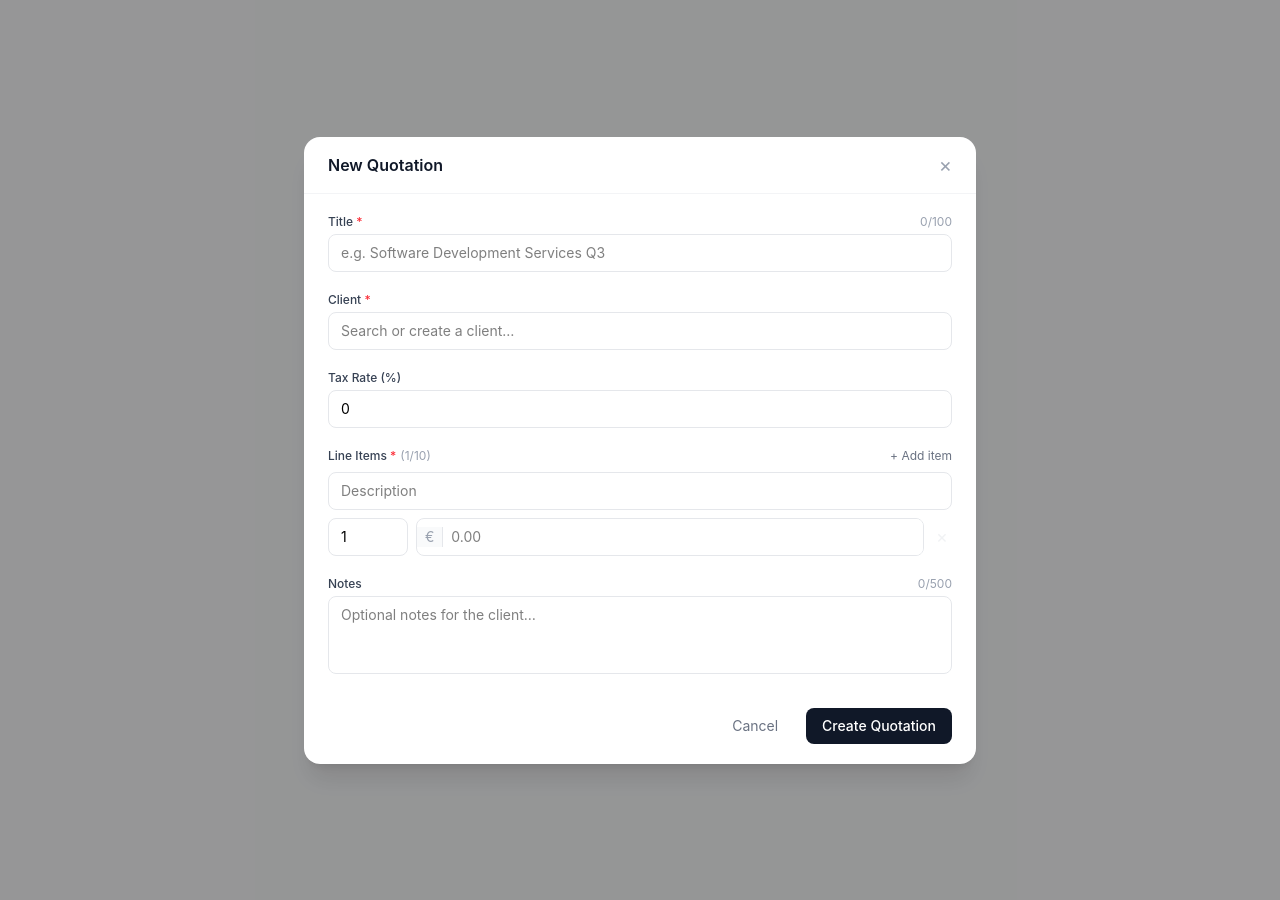
Test: CreateQuotationModal › can add and remove line items
This screenshot has width=1280, height=900.
What coordinates should you click on to do the following:
click the button "+ Add item"
I would click on:
 (921, 456)
Its box is [890, 448, 952, 464].
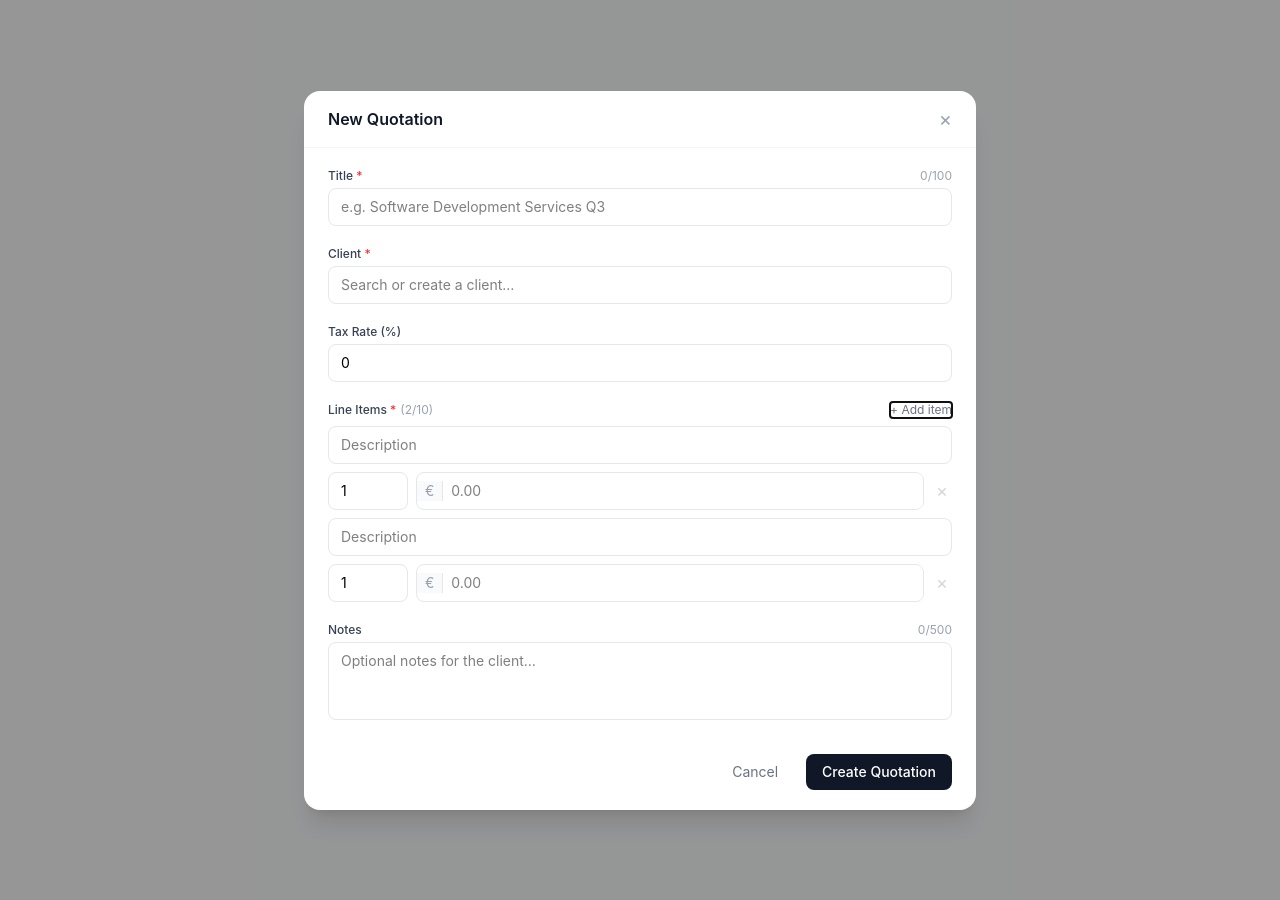
Check: the number of fields with placeholder "Description" is 2, box [328, 426, 952, 464]; [328, 518, 952, 556]
What coordinates should you click on to do the following:
click the button named "Remove item"
I would click on:
 (942, 490)
Its box is [932, 482, 952, 500].
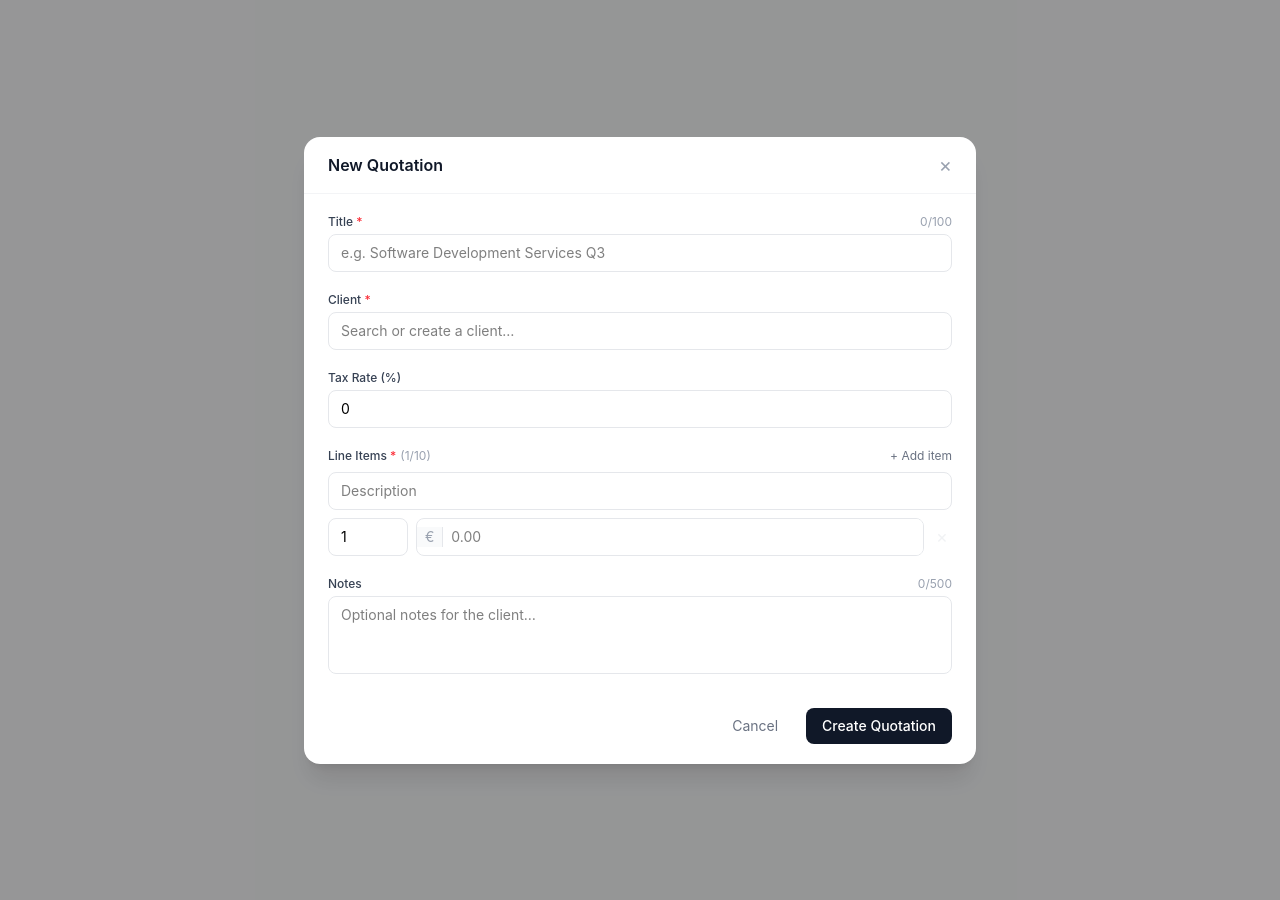
Check: the number of fields with placeholder "Description" is 1, box [328, 472, 952, 510]
